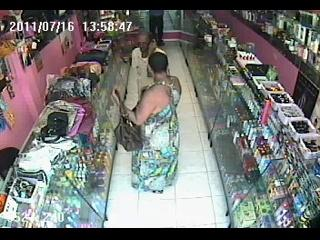Normal: (114, 52, 182, 193), (115, 117, 144, 152), (148, 10, 166, 46), (76, 50, 109, 66)
